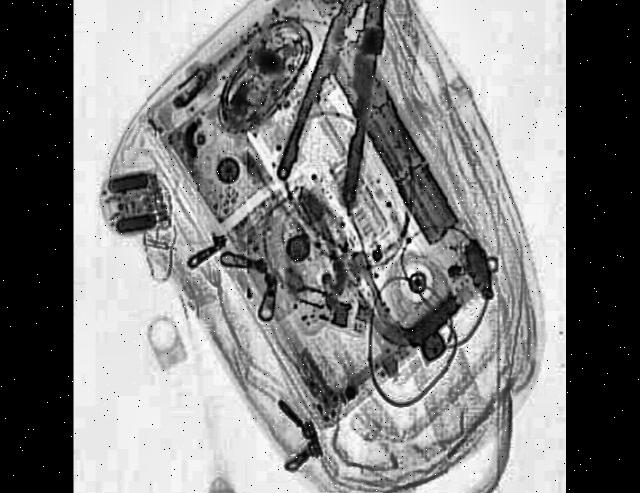Pliers: (277, 0, 409, 217)
